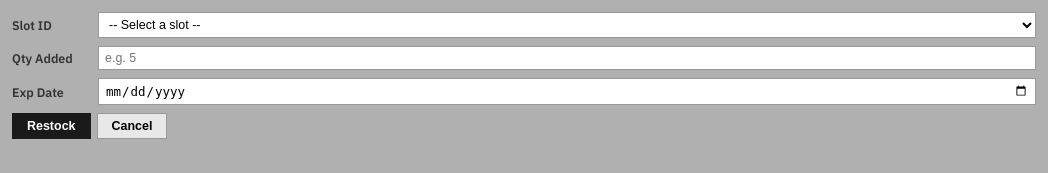
Test: RestockForm › shows fixed concurrency message on HTTP 409
Select "A2 - Trail Mix" in the dropdown labelled "Slot ID" at [567, 25], box 98,12 -> 1036,38
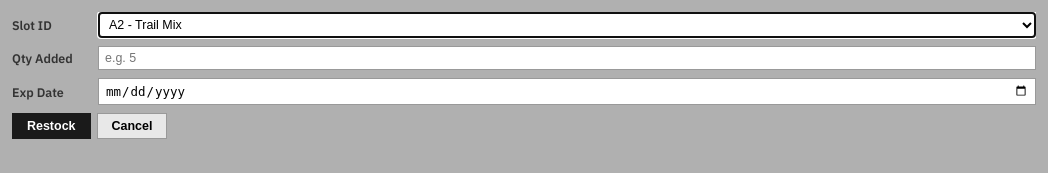
Type "1" into the number field labelled "Qty Added".
click(567, 58); type("1")  # box 98,46 -> 1036,70
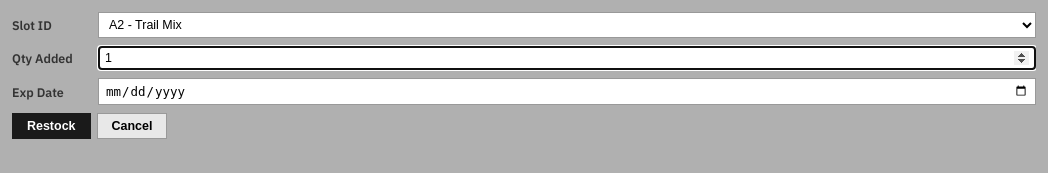
Type "2026-12-01" into the date field labelled "Exp Date".
click(567, 92); type("2026-12-01")  # box 98,78 -> 1036,105
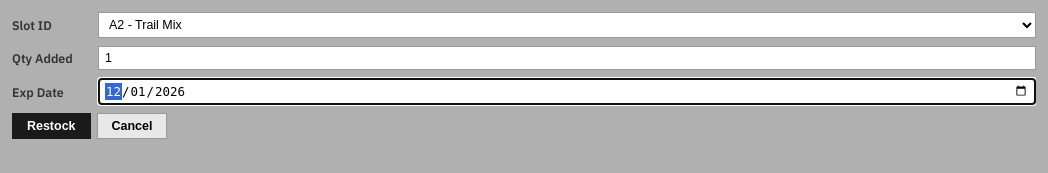
Click the button "Restock".
click(51, 126)  # box 12,113 -> 90,139
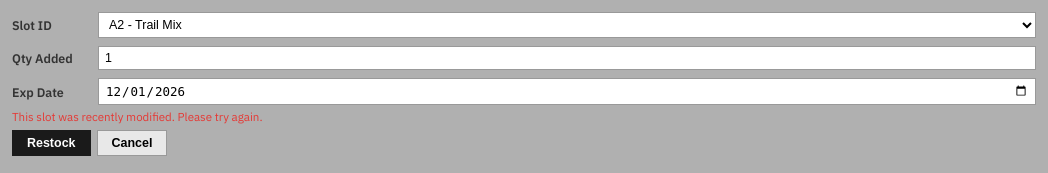
Expected: the text "This slot was recently modified. Please try again." is shown, 12,109 -> 262,124
